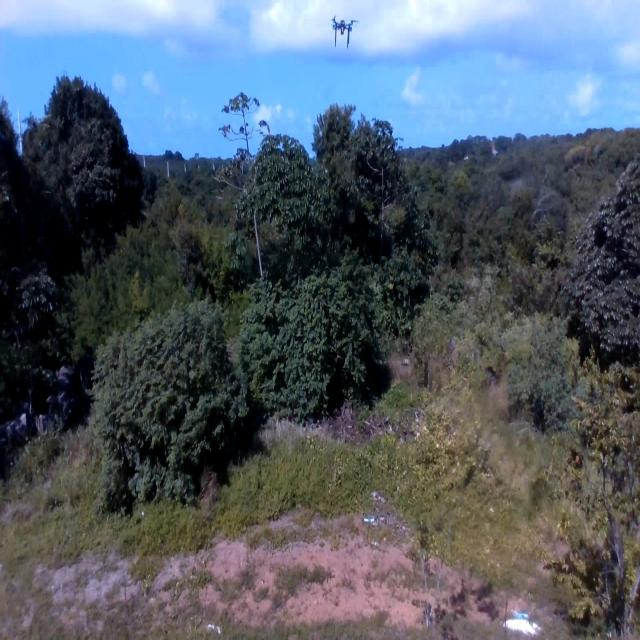-uav-: (324, 8, 362, 52)
